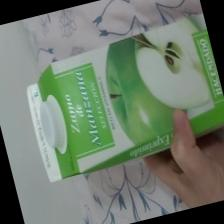Kertas: (27, 19, 223, 180)
